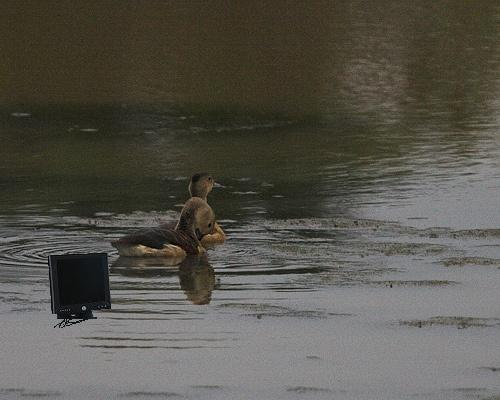tampered: (49, 254, 111, 328)
